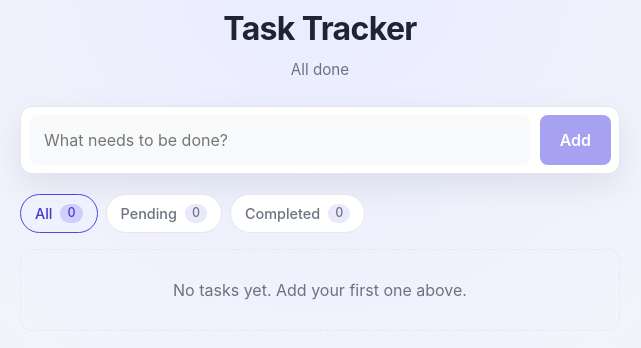
Scenario: Task Tracker › adds tasks, clears the field and shows the pending count
In the field named "New task": [279, 140] box [29,115,530,165], type "Buy milk"
Then press Enter
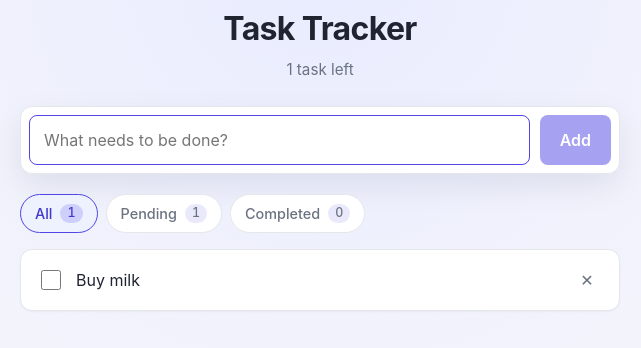
Expected: the text "Buy milk" is shown, [76,268,140,292]
Expected: the text "1 task left" is shown, [286,60,354,79]
